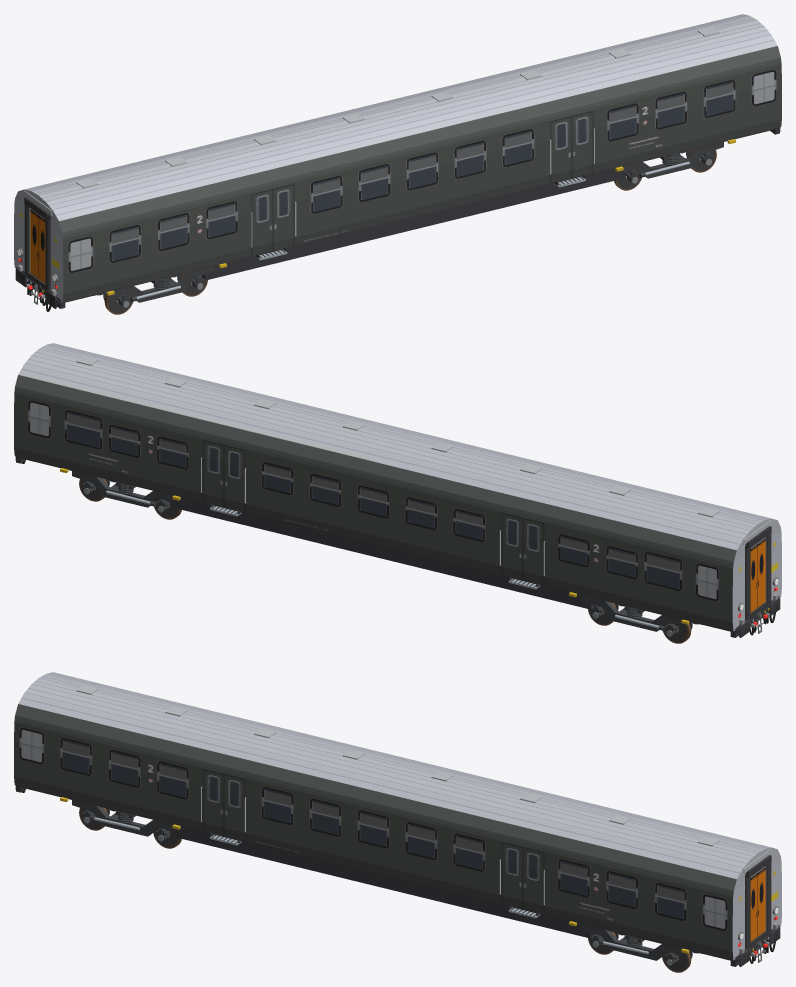
Rendered from RET_przed_szyby.glb.
The picture shows the model from 3 angles, top to bottom: view 1: azimuth 30°, elevation 25°; view 2: azimuth 150°, elevation 25°; view 3: azimuth 330°, elevation 25°; orthographic projection.
Visible parts, largest first — view 1: RET_pudlo, RET_rama, RET_guma_det, RET_wozek, RET_harm, RET_went, RET_tlum; view 2: RET_pudlo, RET_rama, RET_guma_det, RET_wozek, RET_harm, RET_went, RET_tlum; view 3: RET_pudlo, RET_rama, RET_guma_det, RET_wozek, RET_harm, RET_went, RET_tlum.
Boxes of the visible parts, x1,y1,x2,y2 form: RET_pudlo: (14, 14, 781, 302); RET_rama: (16, 127, 780, 308); RET_guma_det: (27, 69, 776, 311); RET_wozek: (97, 142, 723, 308); RET_harm: (24, 197, 50, 291); RET_went: (76, 27, 719, 188); RET_tlum: (26, 161, 689, 299); RET_pudlo: (14, 343, 781, 631); RET_rama: (15, 456, 779, 637); RET_guma_det: (22, 400, 777, 635); RET_wozek: (72, 471, 698, 637); RET_harm: (745, 526, 771, 620); RET_went: (76, 356, 719, 517); RET_tlum: (106, 490, 753, 628); RET_pudlo: (14, 672, 781, 960); RET_rama: (15, 785, 779, 966); RET_guma_det: (19, 727, 777, 963); RET_wozek: (72, 800, 698, 966); RET_harm: (745, 855, 771, 949); RET_went: (76, 685, 719, 846); RET_tlum: (94, 817, 769, 954).
Size of the model in its own units: 24.6 by 4.07 by 2.98.
21 materials, 1 textured.
